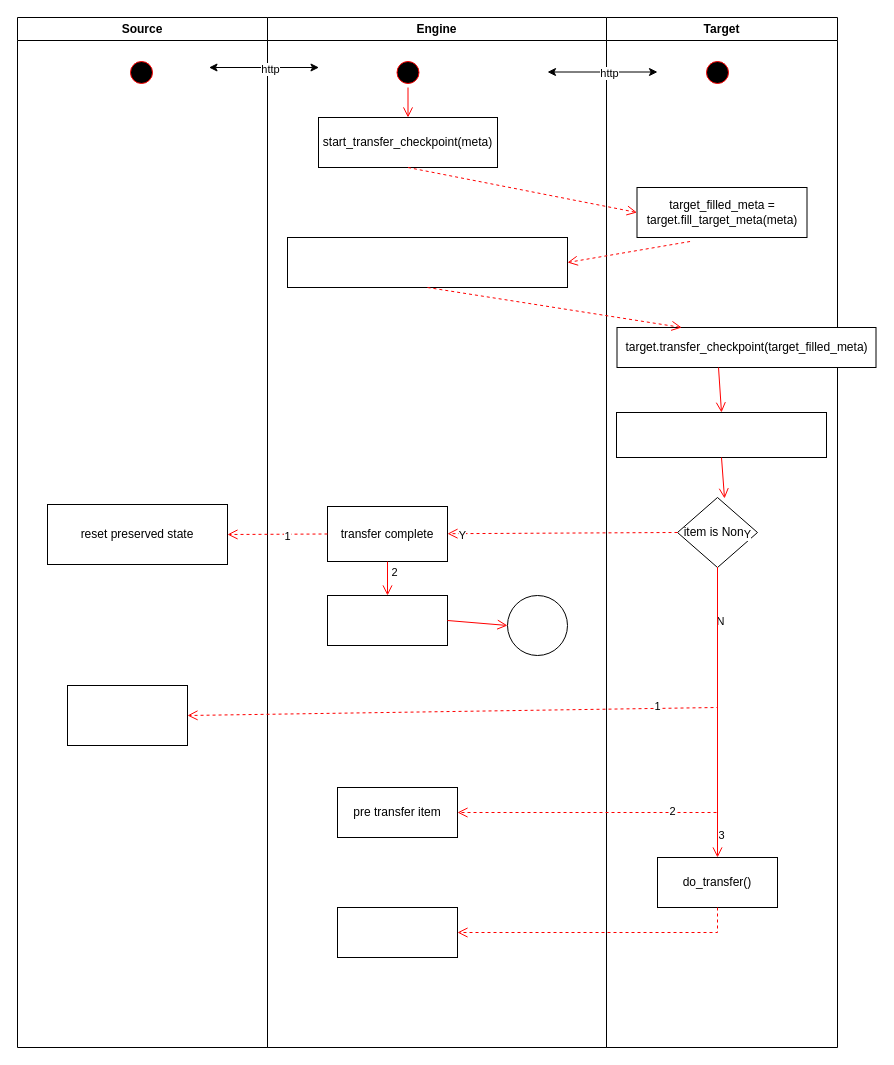
The diagram is 894 pixels wide and 1065 high, and some of its shapes have lost their labels. The centre of each missing label's shape, as x and y in pixels:
end: the point at 537,625
item transfer done: the point at 397,932
item=read_next_item(target_filled_meta): the point at 721,435
meta_db.save_target_filled_meta(target_filled_meta ): the point at 427,262
read item: the point at 127,715
update status: the point at 387,620
